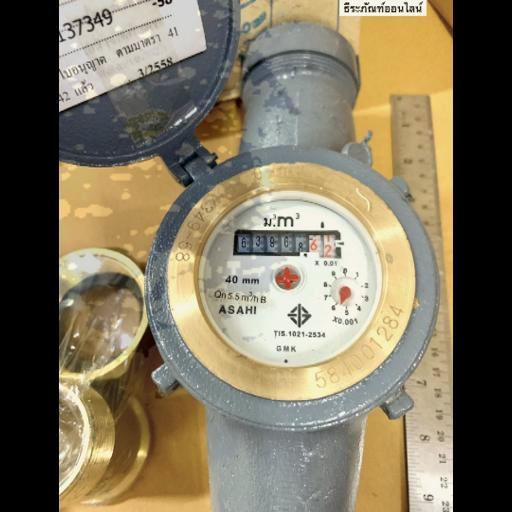2: (324, 235, 334, 257)
3: (254, 234, 265, 252)
6: (238, 234, 250, 252), (281, 234, 293, 252), (310, 235, 321, 252)
8: (296, 234, 306, 252)
9: (267, 234, 278, 252)
border_water_meter_number: (234, 230, 342, 259)
